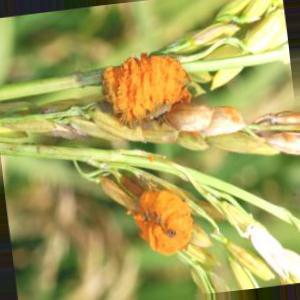Leaf_Scald: (109, 49, 187, 116), (134, 188, 184, 255)
